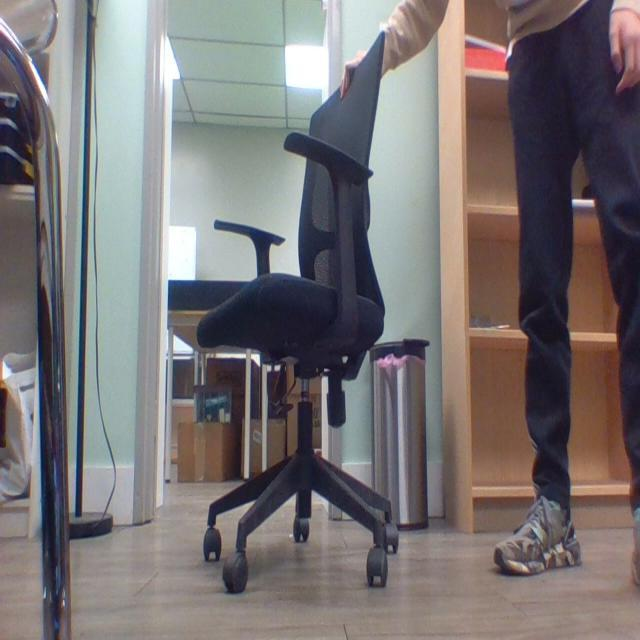chair: (190, 44, 410, 600)
